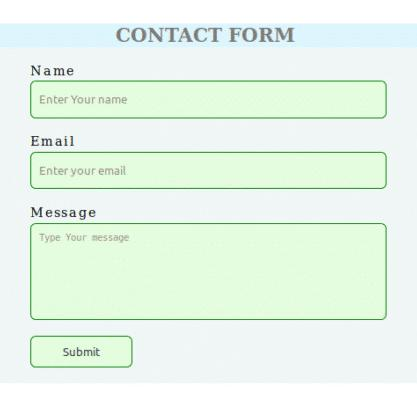button: (28, 335, 134, 370)
field: (29, 221, 390, 323), (27, 78, 389, 120), (28, 149, 389, 191)
field_with_label: (26, 205, 396, 325), (25, 62, 394, 123), (26, 134, 392, 194)
